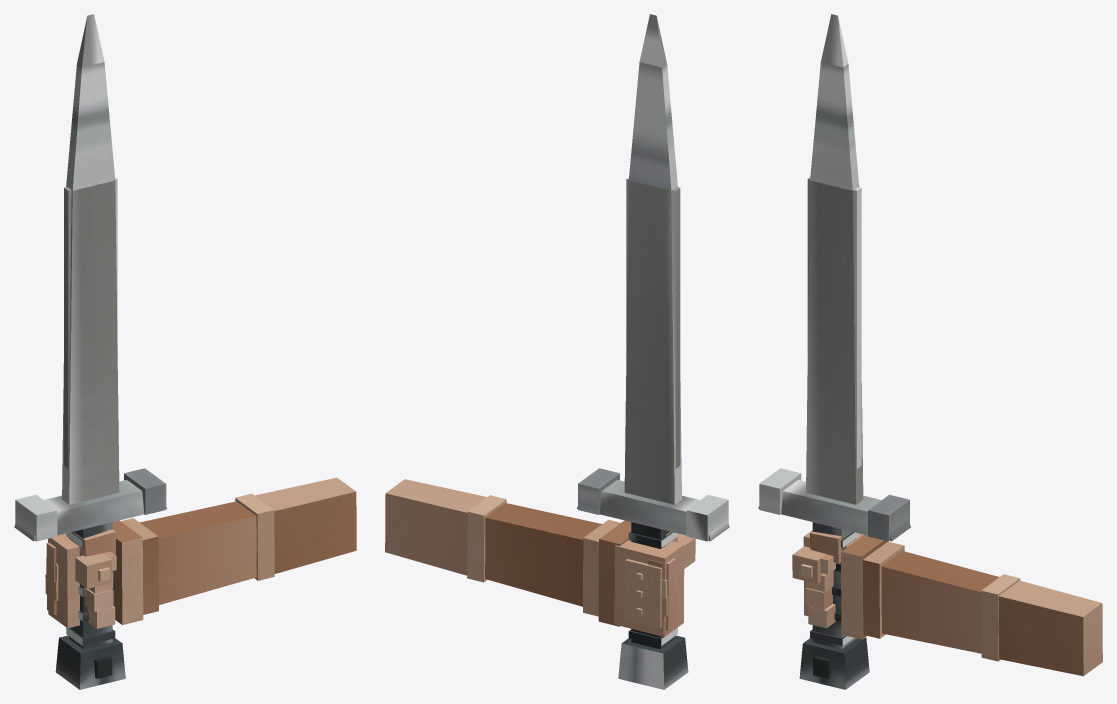
Rendered from right_fist_sword.glb.
3 renders of one model, left to right at view 1: azimuth 30°, elevation 25°; view 2: azimuth 150°, elevation 25°; view 3: azimuth 330°, elevation 25°, orthographic.
Visible parts, largest first — view 1: PS1_Sword, PS1_Right_Fist.001; view 2: PS1_Sword, PS1_Right_Fist.001; view 3: PS1_Sword, PS1_Right_Fist.001.
Part boxes in pixels (box(x1,y1,x2,y2)): PS1_Sword: box(14, 14, 166, 689); PS1_Right_Fist.001: box(45, 477, 356, 628); PS1_Sword: box(577, 14, 729, 689); PS1_Right_Fist.001: box(385, 479, 695, 636); PS1_Sword: box(758, 14, 910, 689); PS1_Right_Fist.001: box(792, 530, 1102, 676).
Size of the model in its own units: 0.3879 by 0.755 by 0.084.
3 materials, 2 textured.
